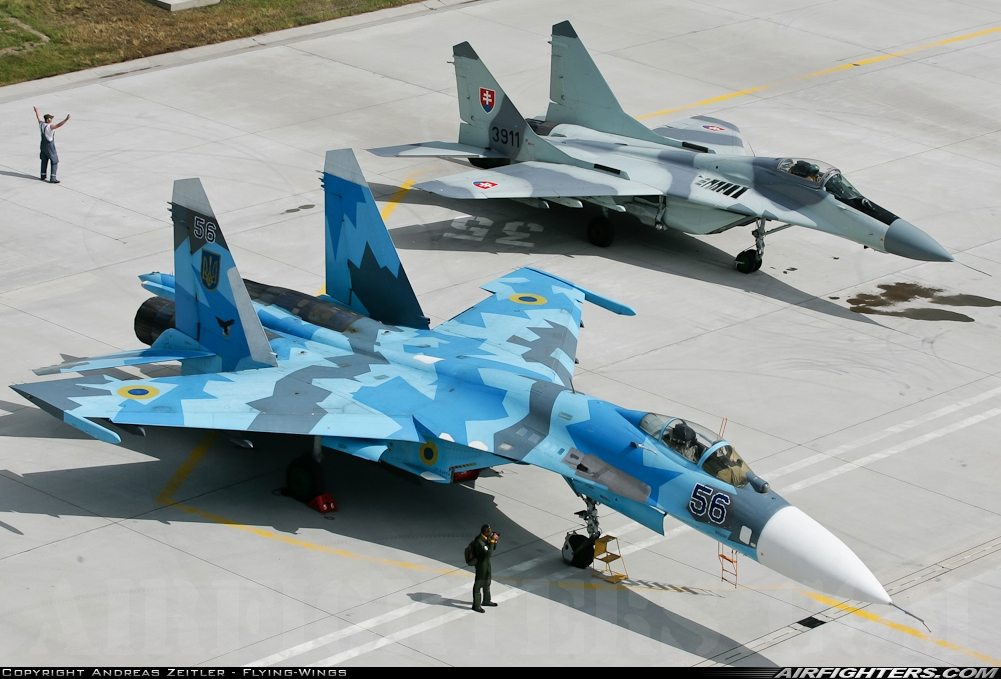Mig-29: (376, 13, 966, 307)
Su-27: (27, 153, 921, 640)
